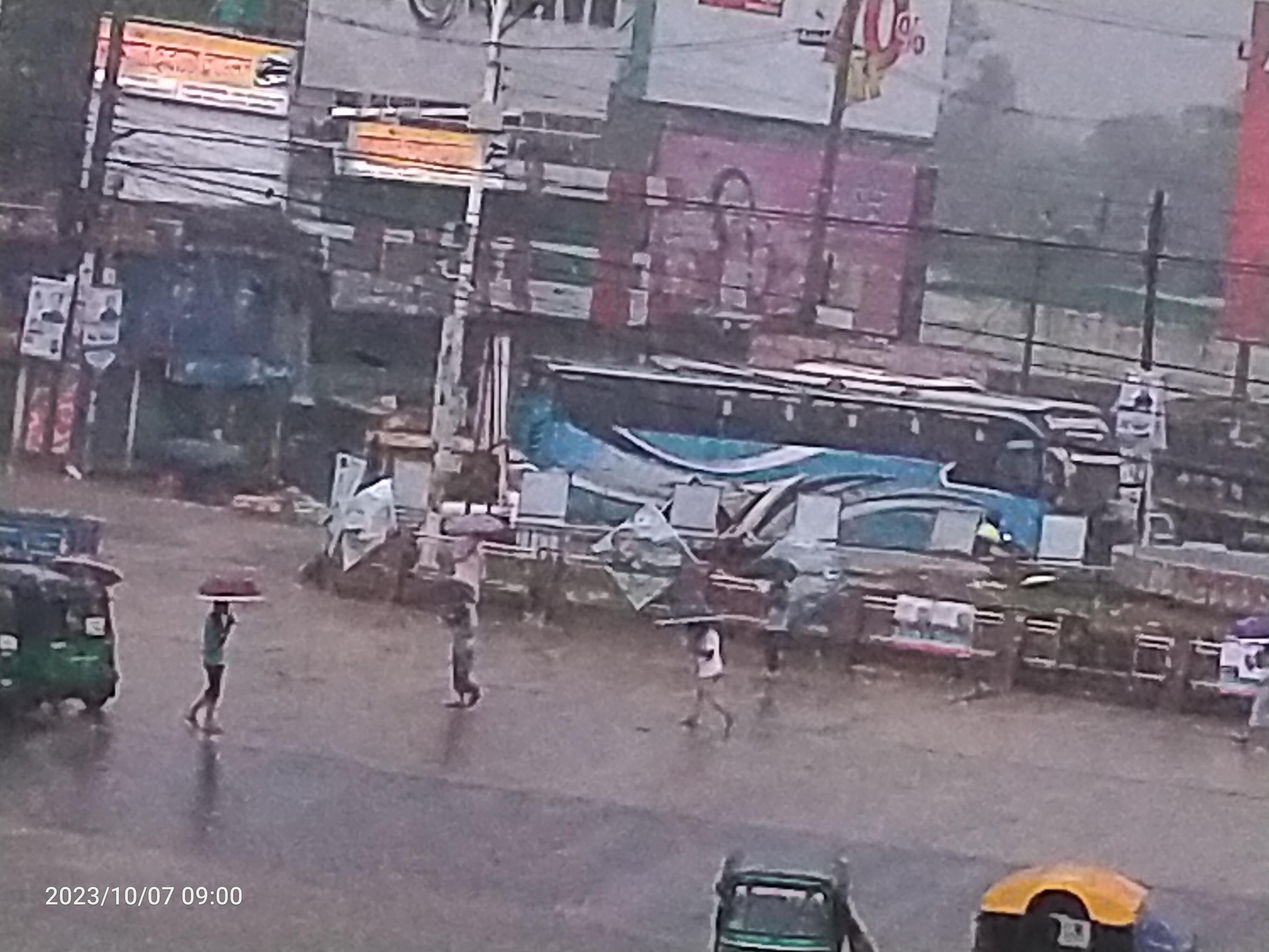Bus: (508, 308, 1062, 644)
Car: (930, 840, 1187, 952)
